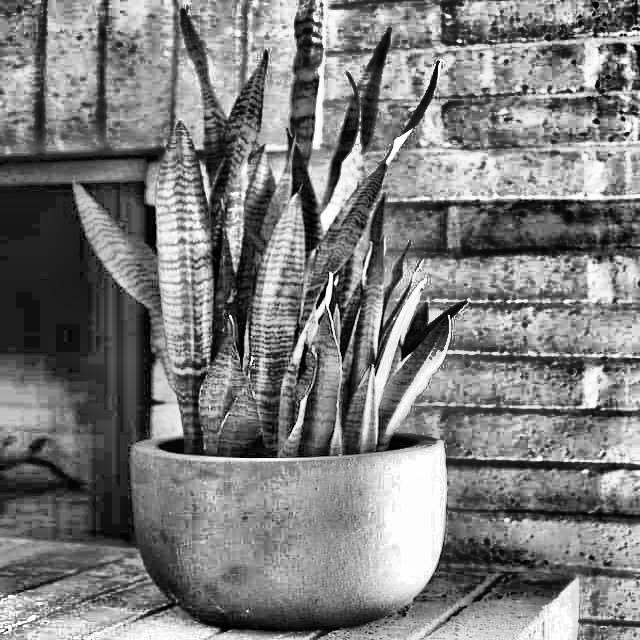plants: (126, 19, 474, 607)
